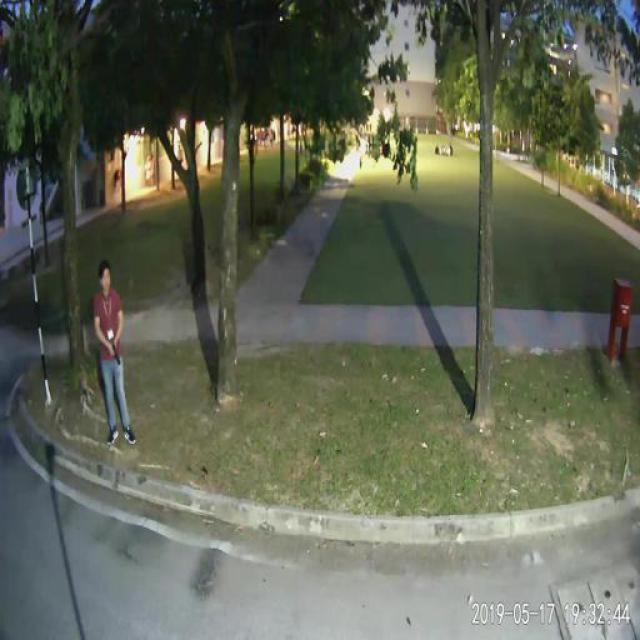weapon: (111, 342, 121, 366)
